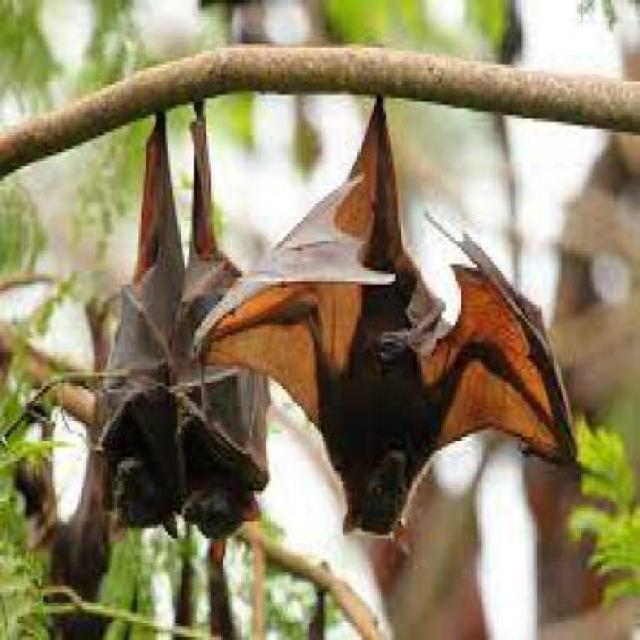Bat: (193, 105, 578, 541), (101, 121, 263, 532)
